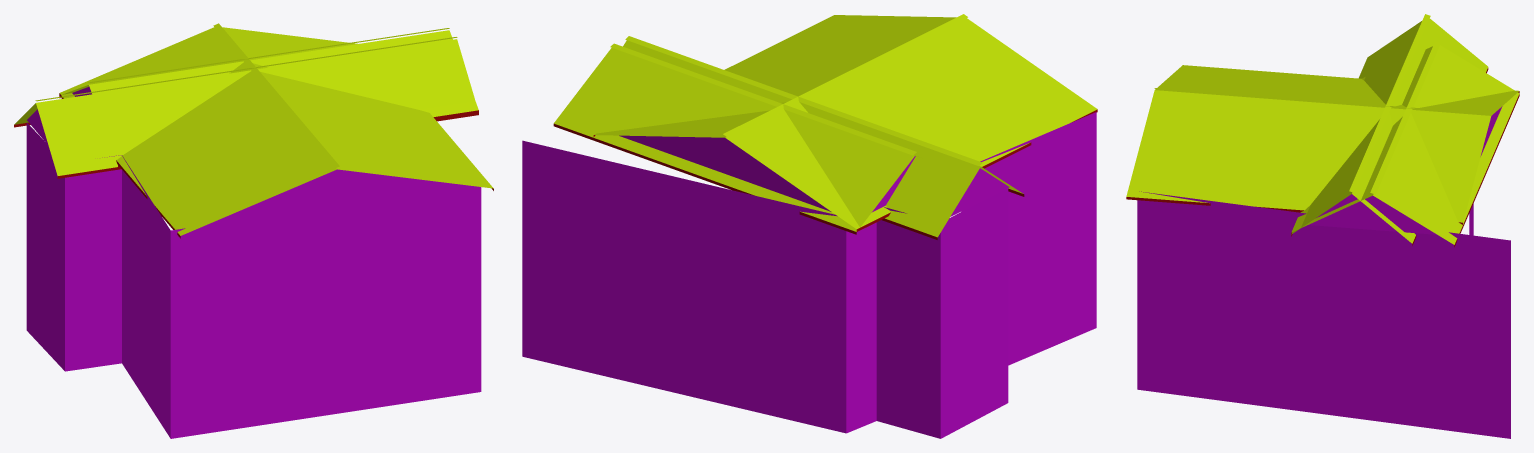
The model's file is bgj_400.glb.
3 renders of one model, left to right at view 1: azimuth 30°, elevation 25°; view 2: azimuth 150°, elevation 25°; view 3: azimuth 270°, elevation 25°, orthographic. The views are drawn at different scales.
Parts seen in each view (by area): view 1: bgj_400; view 2: bgj_400; view 3: bgj_400.
Boxes of the visible parts, bbox=[...] form: bgj_400: bbox=[14, 23, 493, 438]; bgj_400: bbox=[522, 14, 1097, 438]; bgj_400: bbox=[1126, 14, 1519, 438].
Size of the model in its own units: 19.09 by 11.22 by 16.71.
